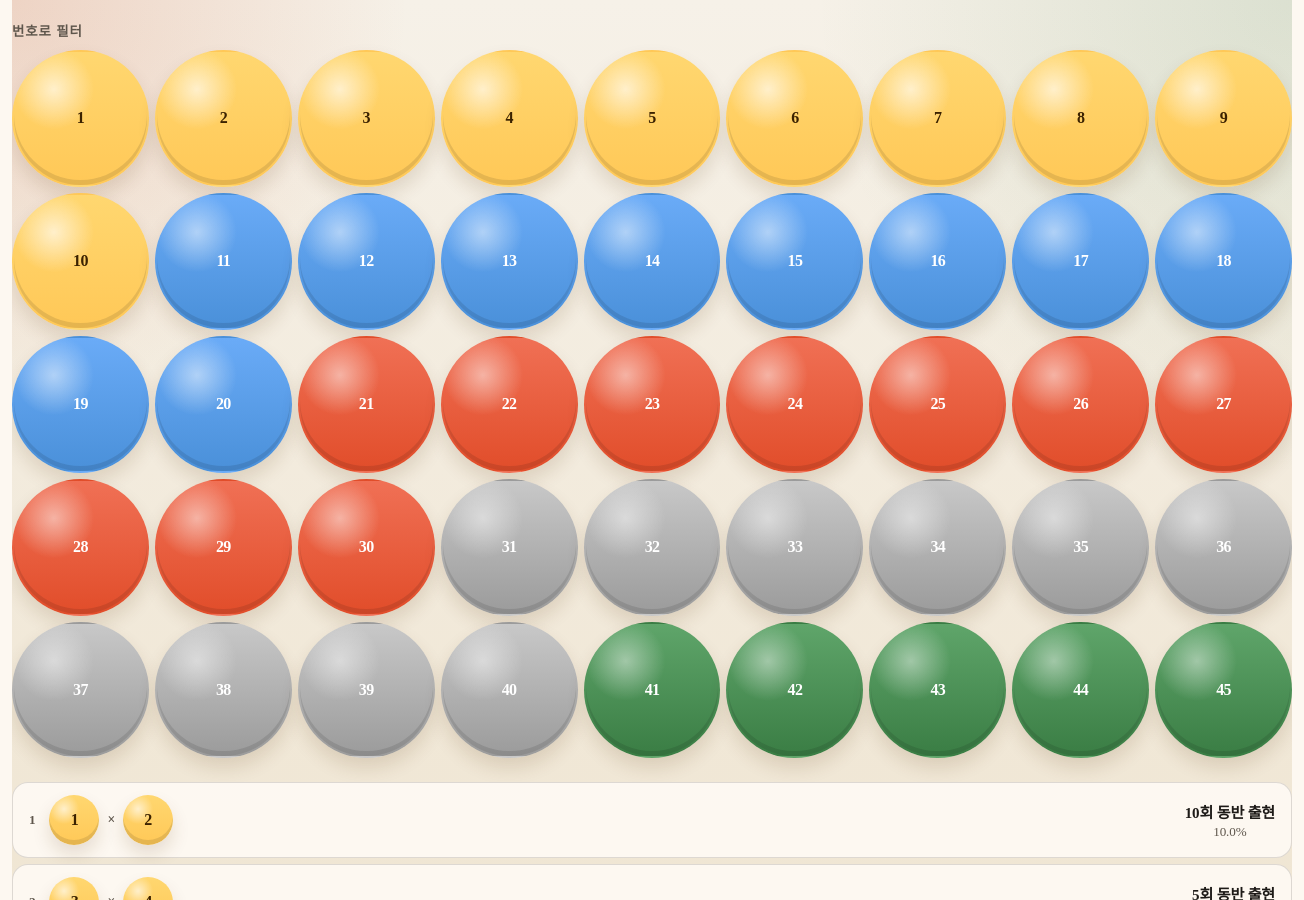
Scenario: 동반 출현 필터 › 성공 후 빈 결과일 때만 기록 없음을 표시한다
Click the button "7" at (938,118), box [869,50,1006,187]
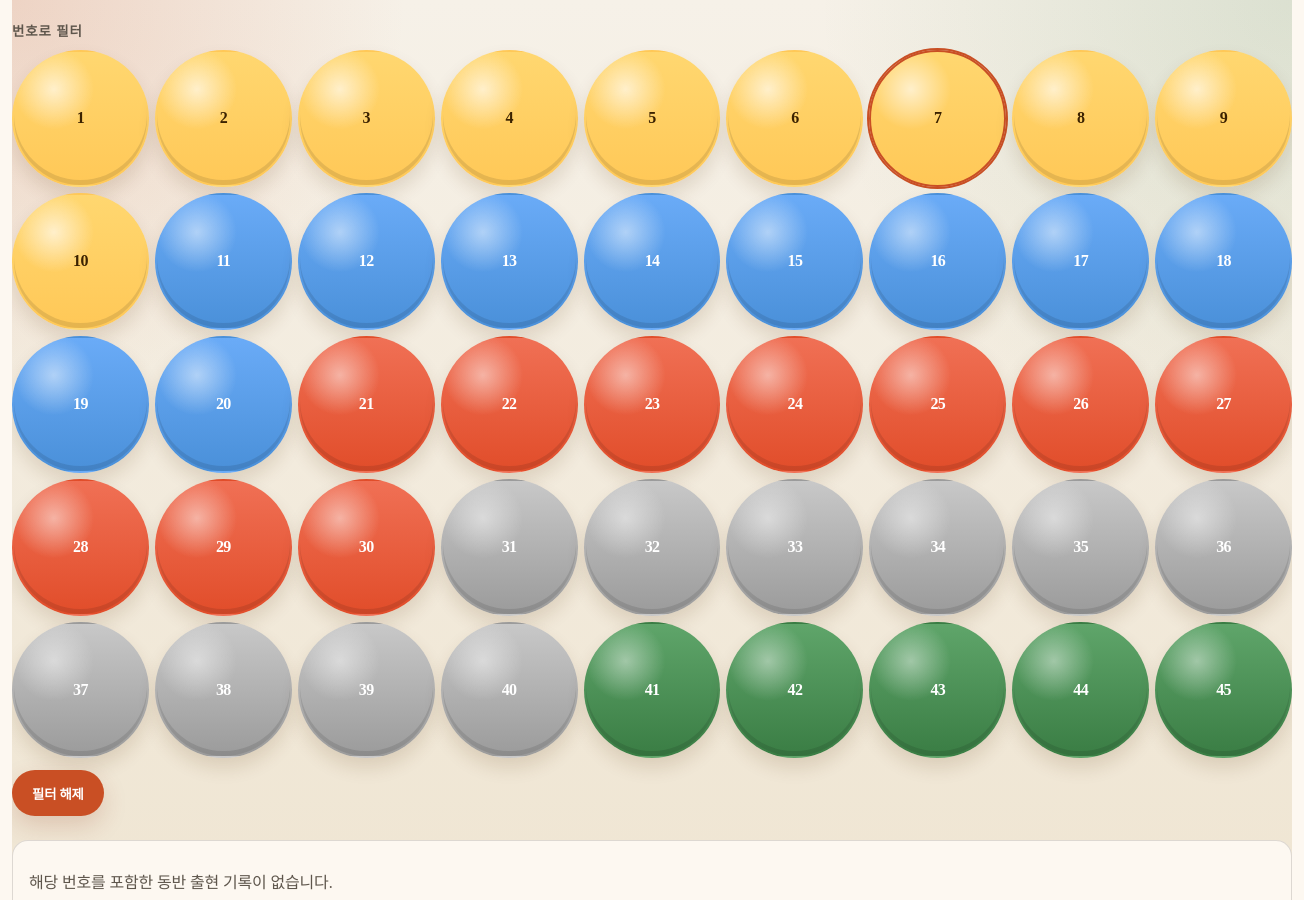
expect the text "해당 번호를 포함한 동반 출현 기록이 없습니다." is shown: met, box [29,870,332,897]
